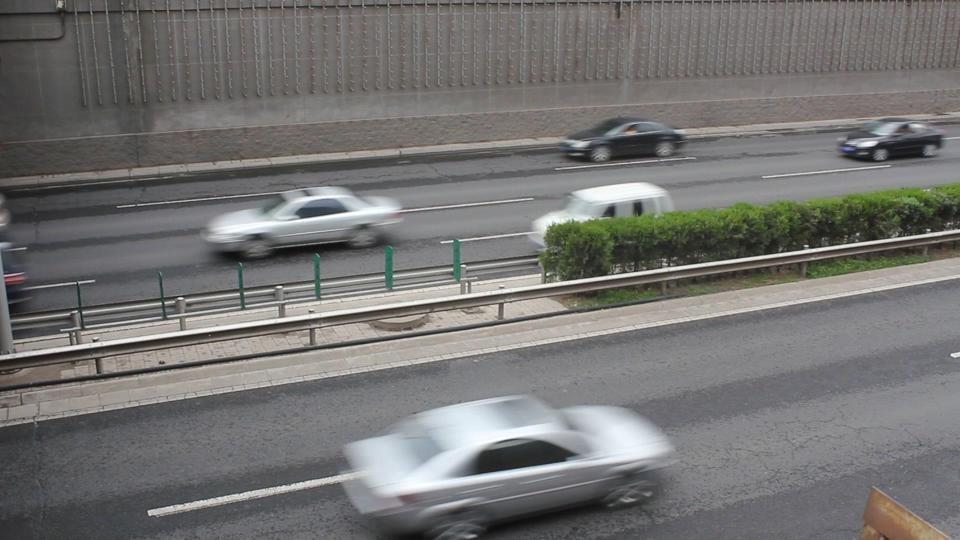car: (337, 393, 675, 538), (200, 184, 406, 261), (528, 180, 673, 251), (558, 118, 688, 163), (836, 119, 944, 162), (0, 239, 30, 306)
